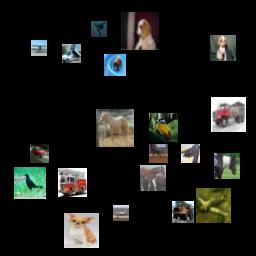airplane: (196, 188, 231, 223), (181, 144, 200, 163), (113, 205, 129, 221), (91, 21, 107, 37), (31, 40, 47, 56)
automobile: (30, 144, 49, 163)
bird: (14, 167, 46, 199), (149, 113, 178, 142)
dog: (121, 12, 159, 50), (64, 213, 99, 248), (210, 35, 236, 61), (104, 54, 126, 76)
truck: (211, 97, 246, 132), (58, 168, 87, 197), (172, 201, 194, 223), (62, 44, 81, 63)
